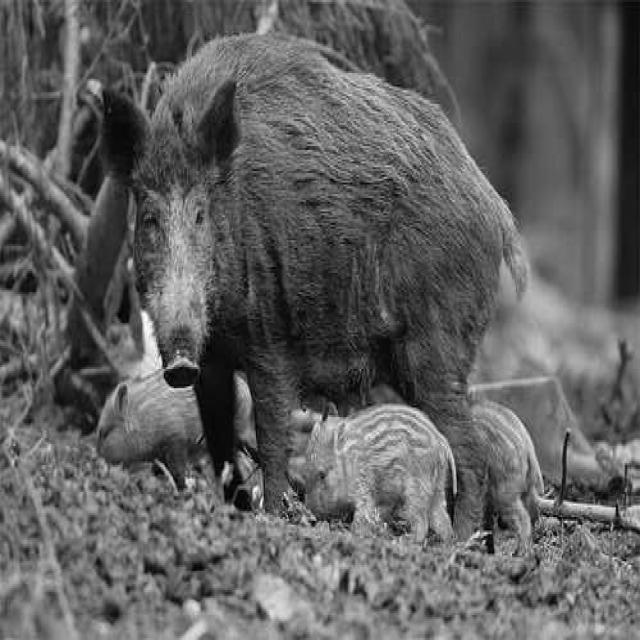boar: (133, 33, 525, 534), (305, 402, 454, 538), (97, 371, 204, 489), (474, 400, 545, 555), (236, 375, 255, 453)
